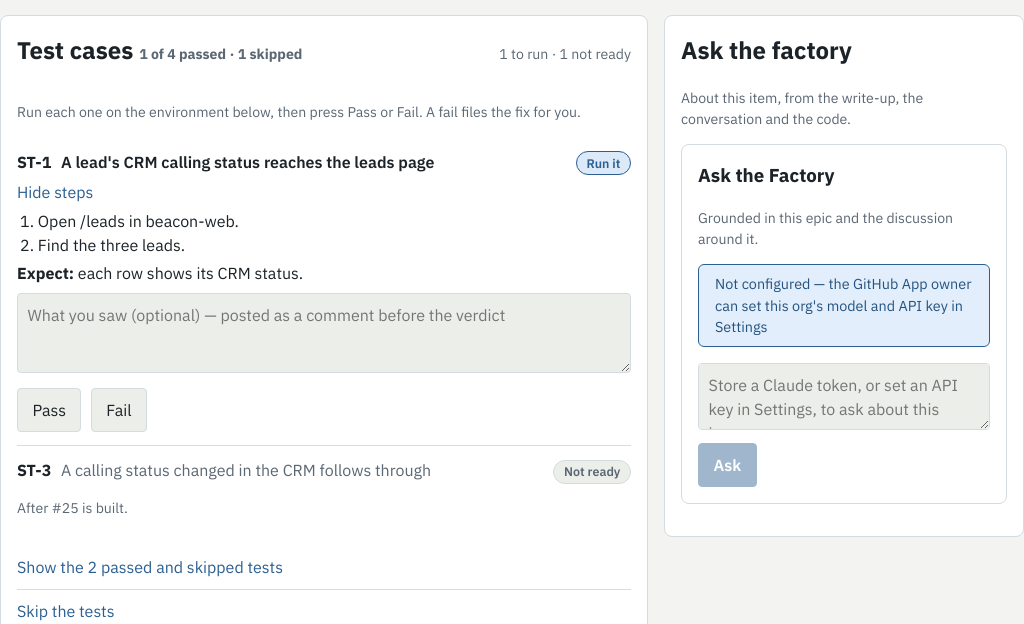
it: WorkItemPage at Test › skips the open cases by asking the factory on the epic
Expected: the heading "Test cases 1 of 4 passed · 1 skipped" is shown, [17,32,302,68]
Click the button "Skip the tests": (66, 612) [17,600,114,623]
(page scrolled)
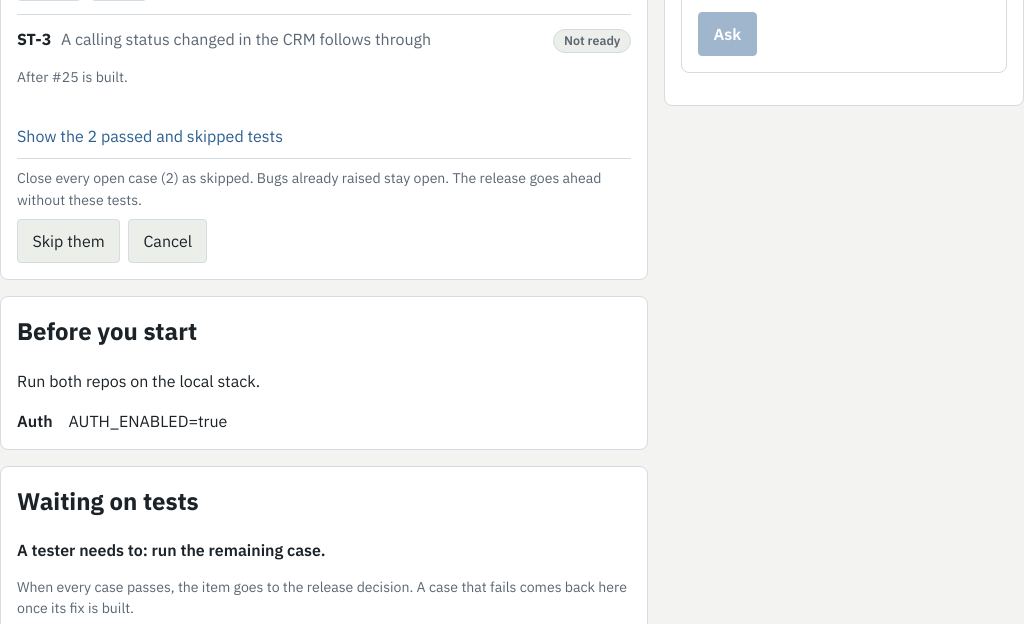
Expected: the text "Close every open case (2) as skipped. Bugs already raised stay open." is shown, [17,168,631,211]
Click the button "Skip them": (68, 241) [17,219,120,263]
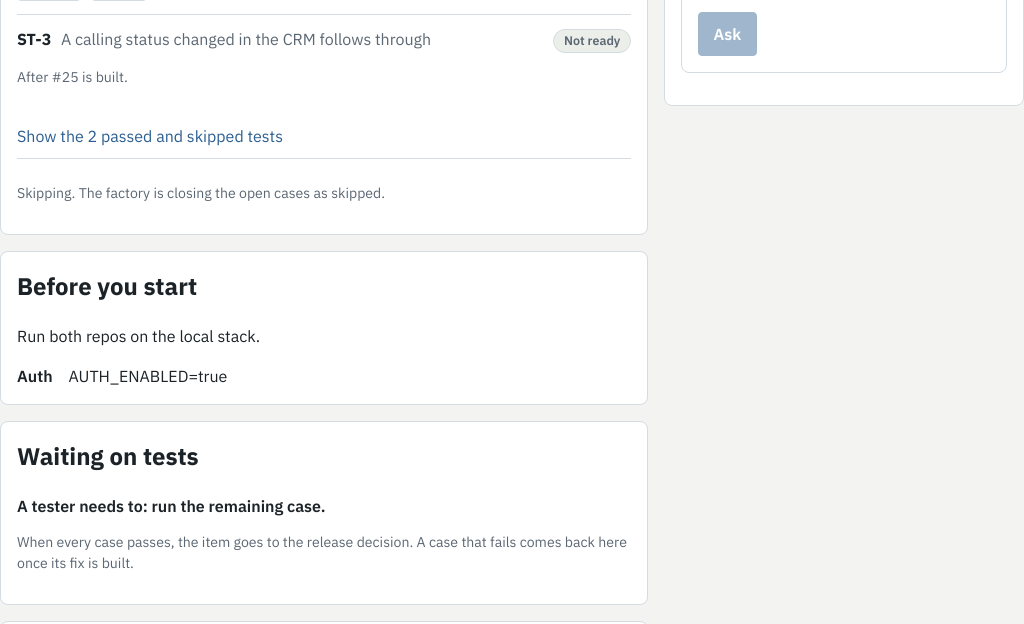
Expected: the text "Skipping. The factory is closing the open cases as skipped." is shown, [17,184,385,202]
